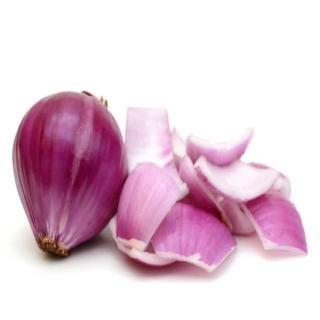Bawang Merah: (10, 90, 132, 260)
